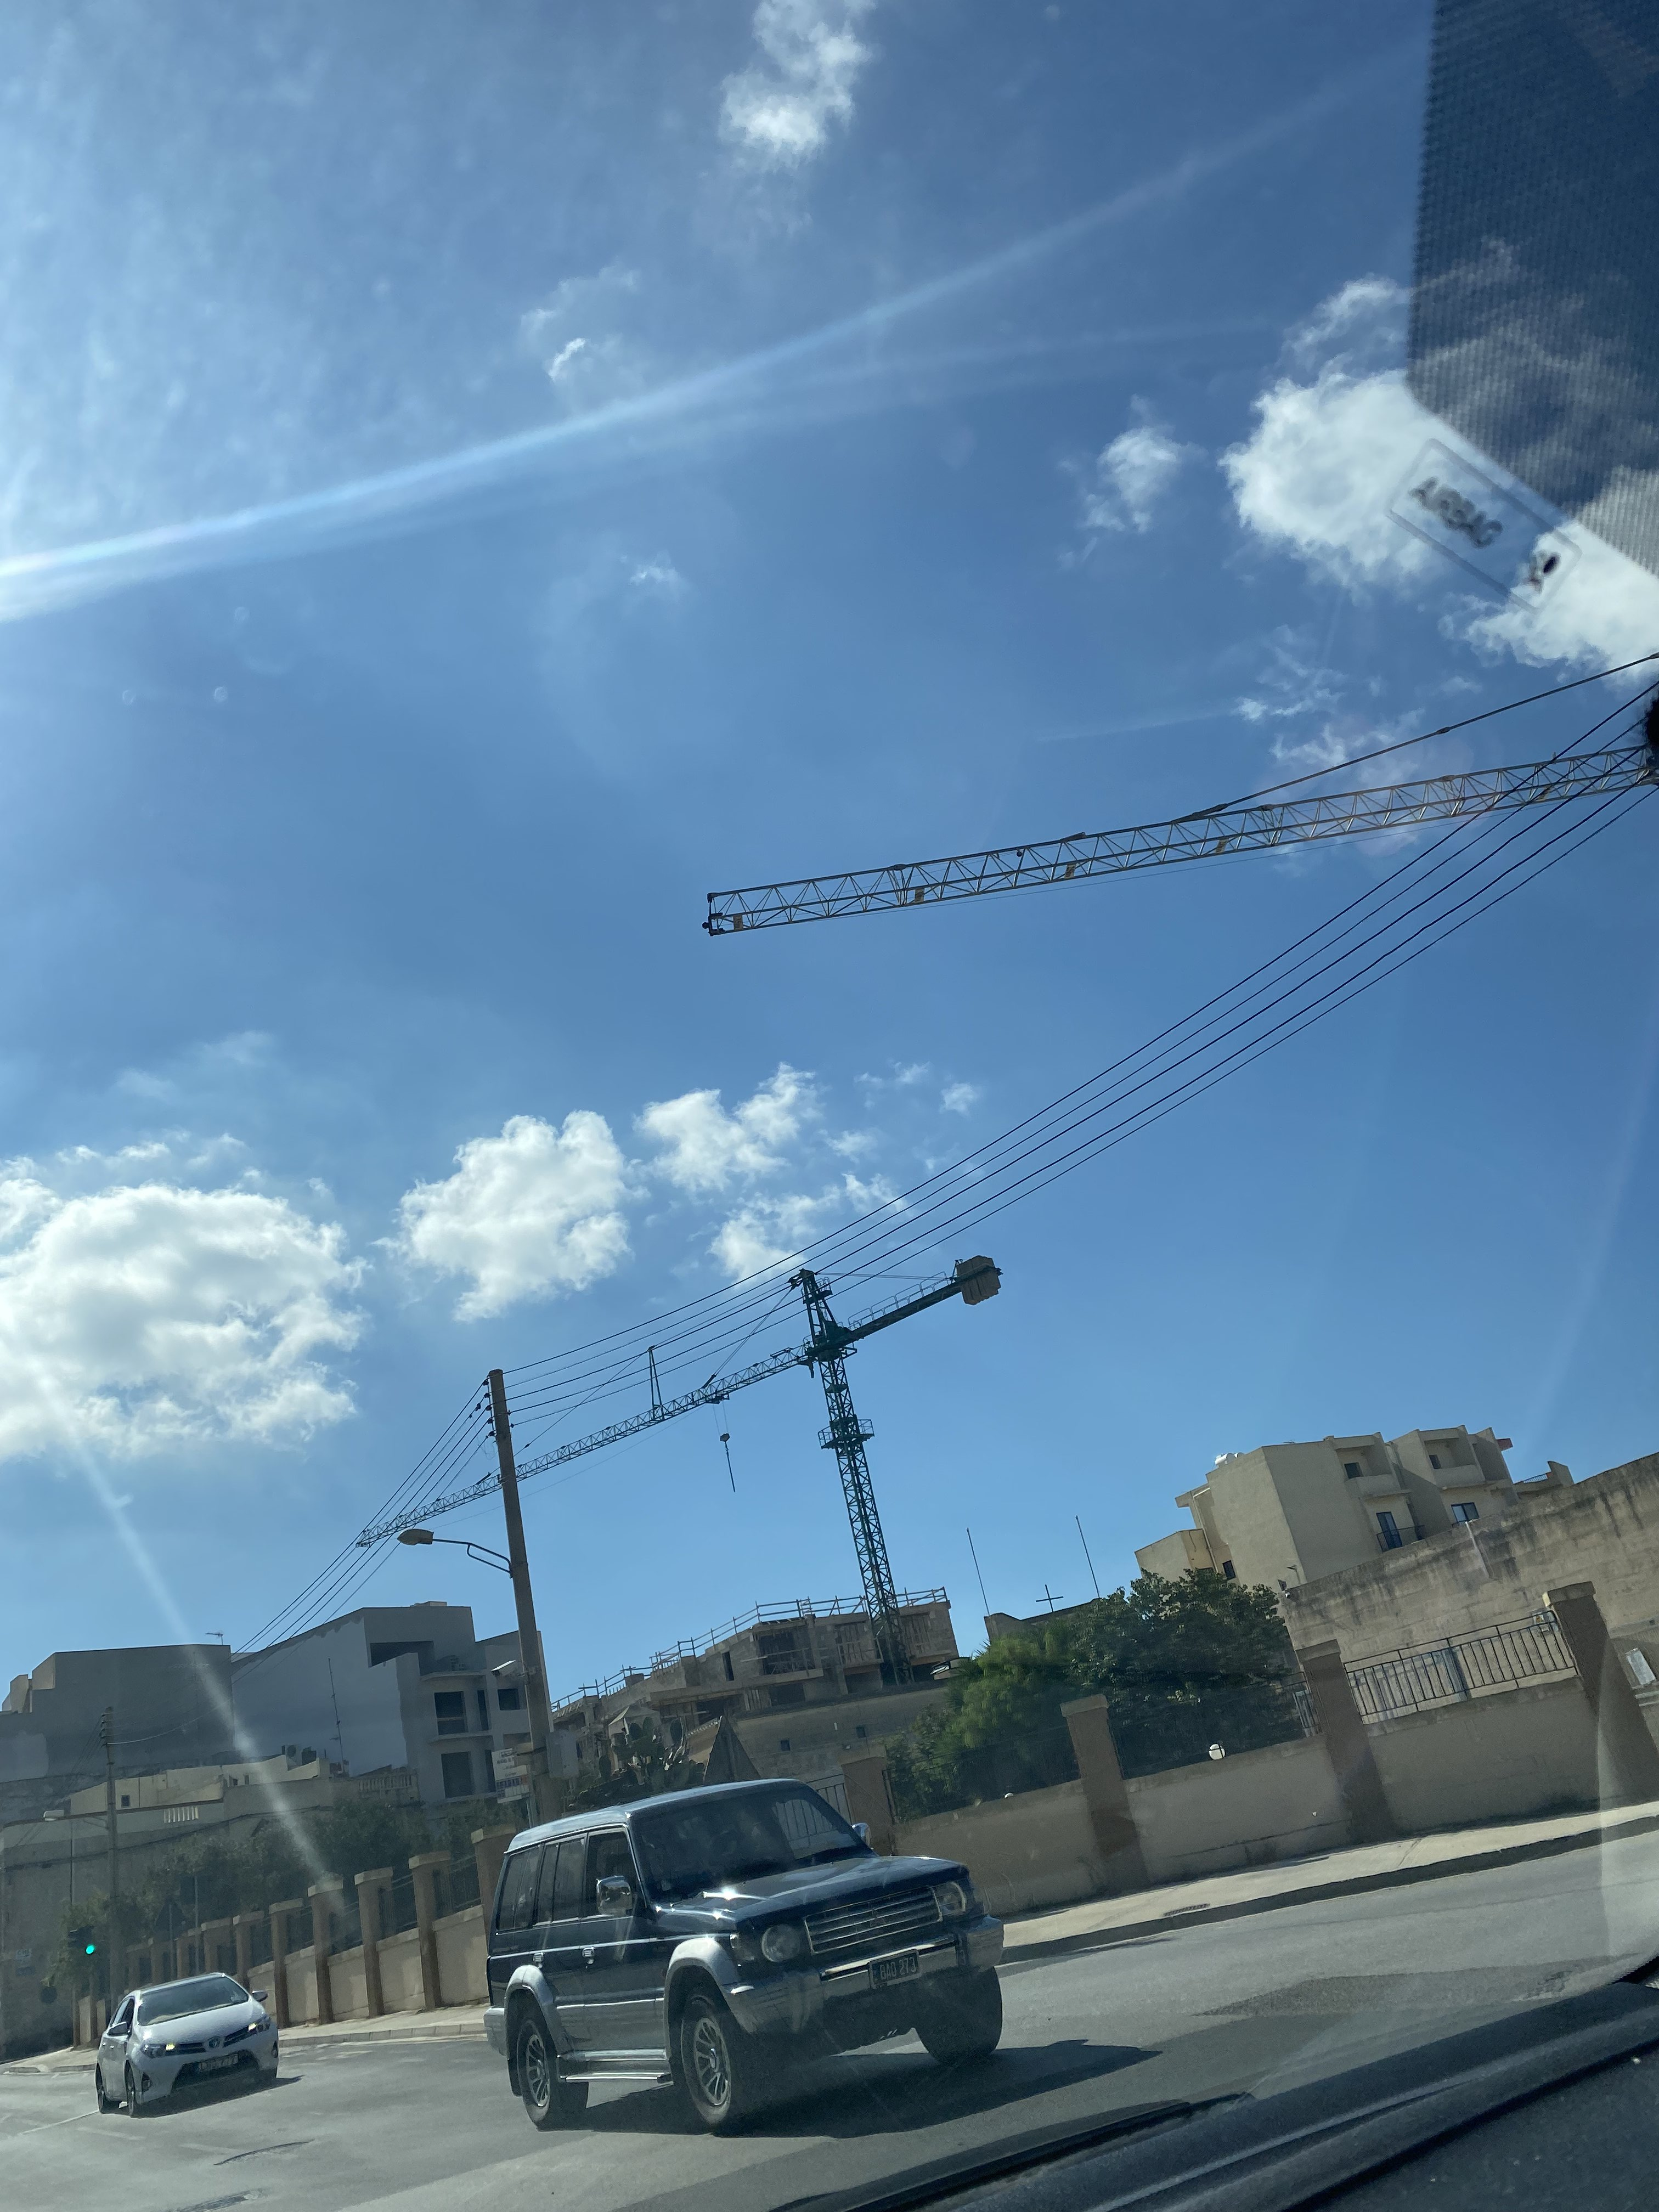crane: (322, 1200, 1039, 1583), (563, 714, 1659, 948)
